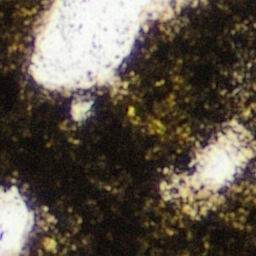cement_matrix: (0, 0, 255, 255), (70, 96, 91, 121), (45, 240, 54, 248)
gravel_crushed_stones: (28, 0, 198, 93), (162, 121, 255, 213), (0, 187, 36, 255), (71, 97, 90, 120), (46, 241, 53, 247), (200, 203, 202, 205)
